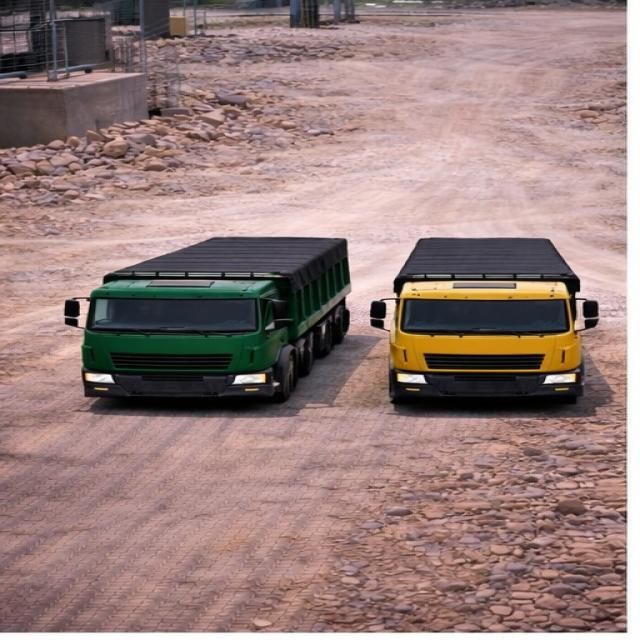trailer: (105, 234, 346, 284), (398, 234, 577, 272)
truck: (64, 214, 354, 410), (368, 223, 606, 408)
